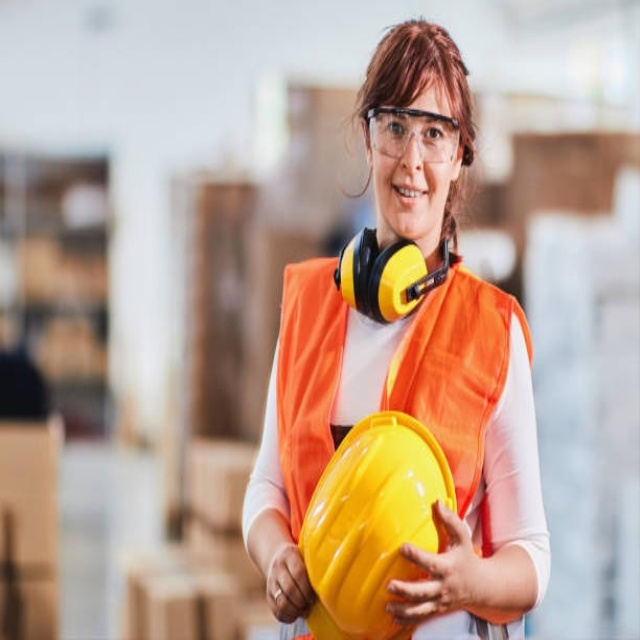Gafas: (367, 109, 463, 165)
Sin_guantes: (383, 503, 482, 622), (264, 539, 317, 624)
Sin_mascara: (388, 171, 437, 226)
